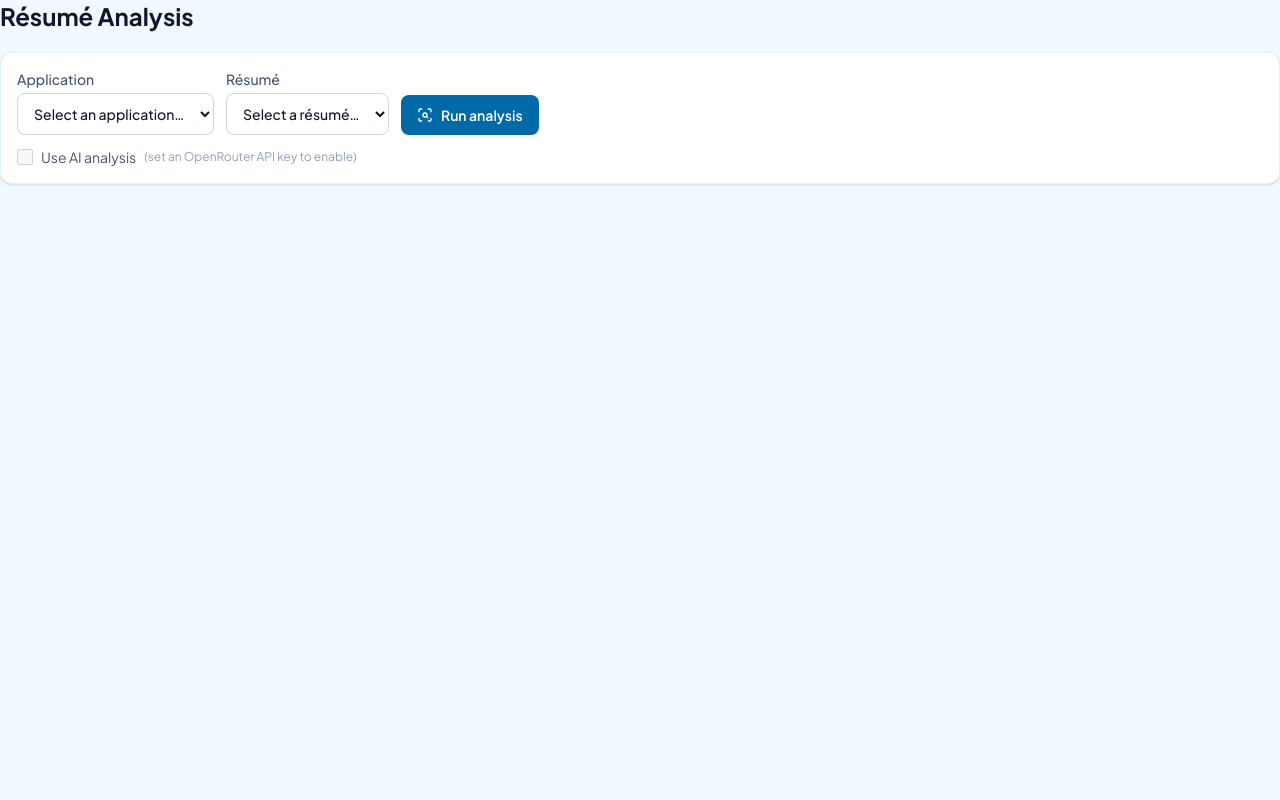
runs an analysis and renders the report
The width and height of the screenshot is (1280, 800).
Select "Backend Engineer" in the dropdown labelled "Application" at (116, 114), box [17,93,214,135]
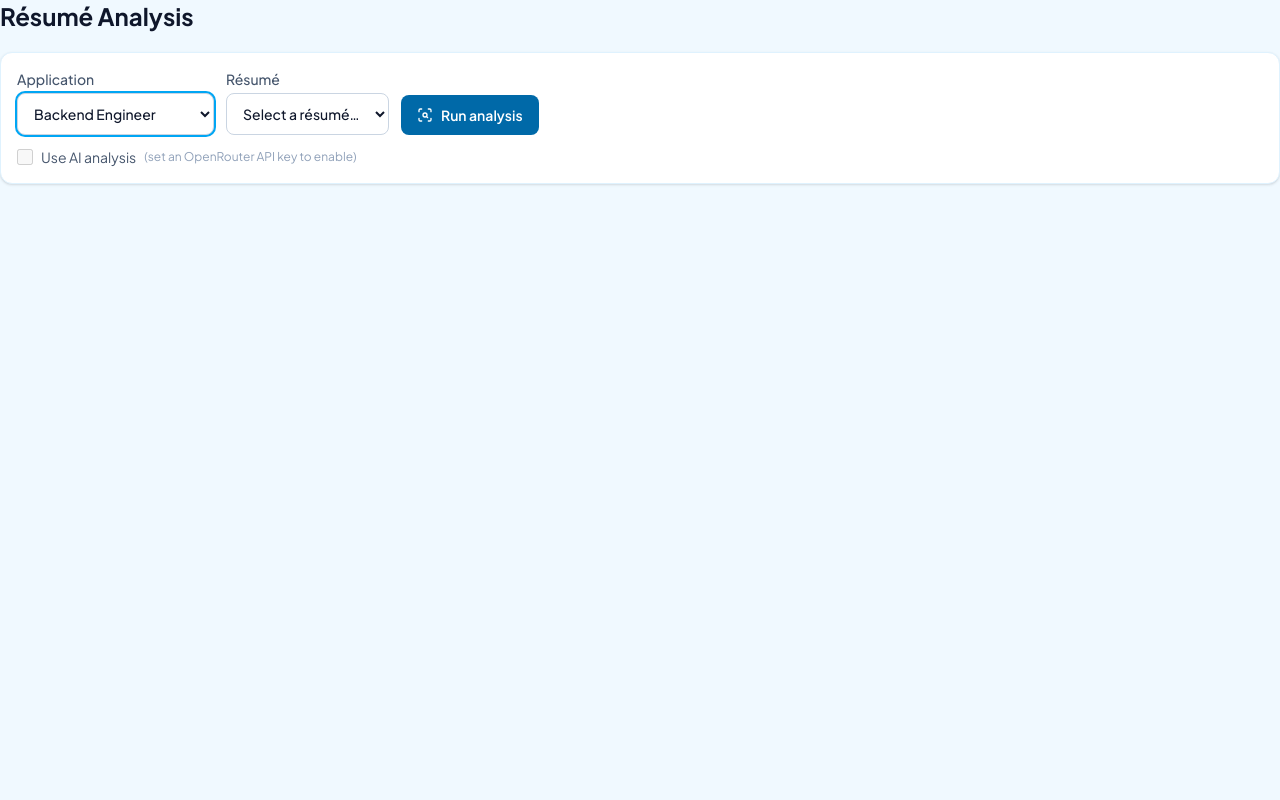
Select "Backend Resume" in the dropdown labelled "Résumé" at (308, 114), box [226,93,389,135]
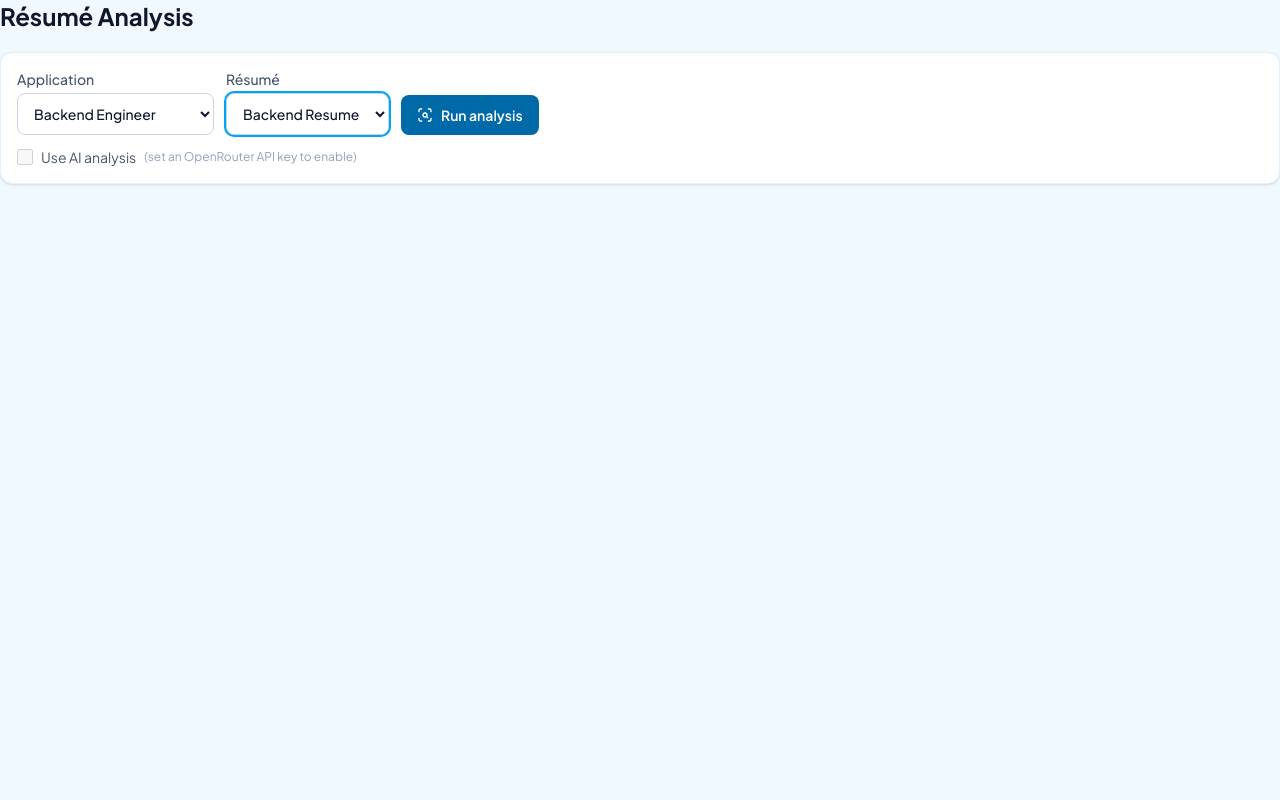
Click the button "Run analysis".
click(470, 115)  # box [401,95,539,135]
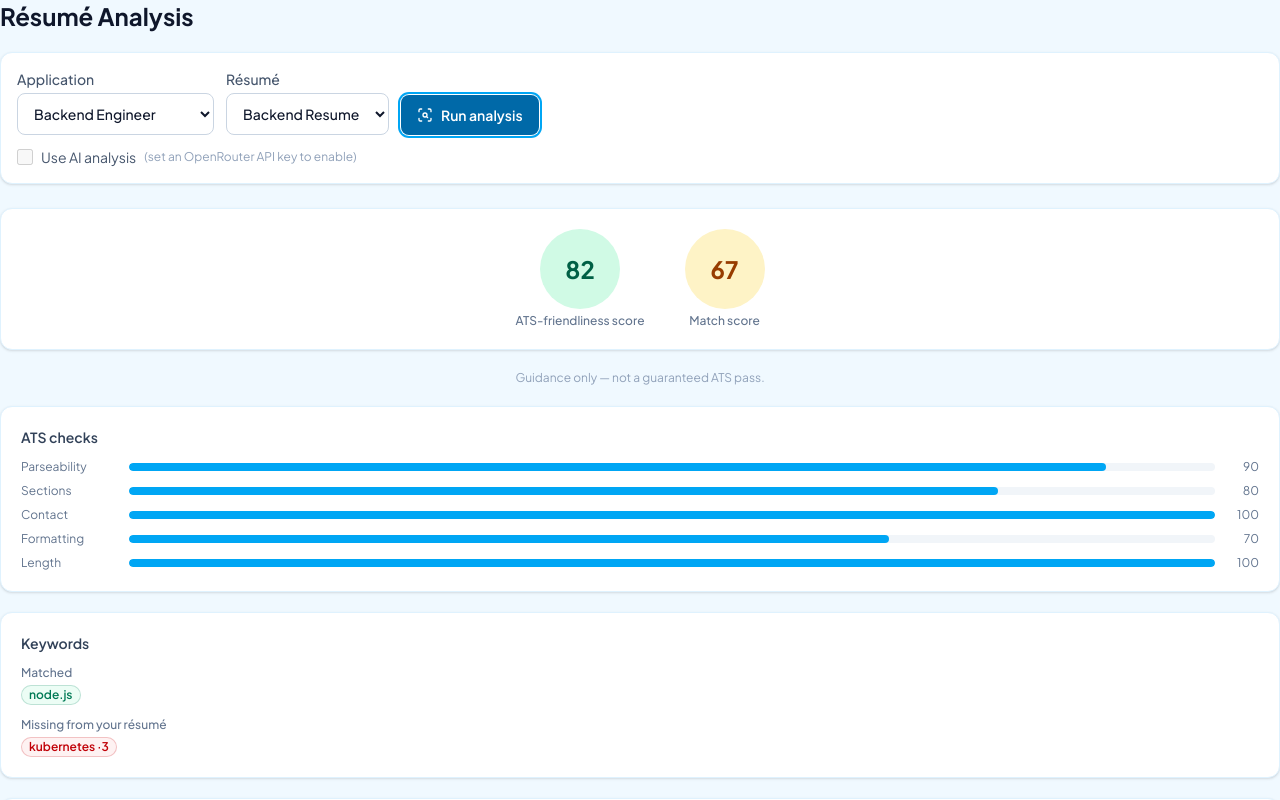
Now the text named "ATS-friendliness score" reads "82", box [565,254,595,284]
Now the text "kubernetes ·3" is shown, box [21,737,117,757]
